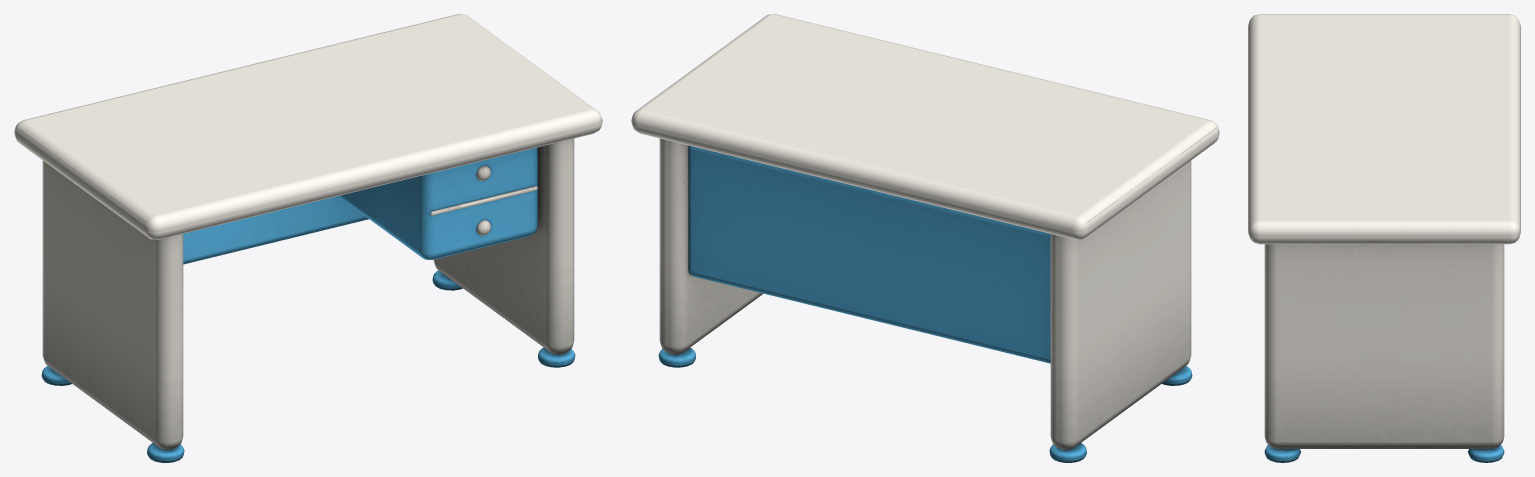
Rendered from desk.glb.
3 views of the same model, side by side, from view 1: azimuth 30°, elevation 25°; view 2: azimuth 150°, elevation 25°; view 3: azimuth 270°, elevation 25° (orthographic). The views are drawn at different scales.
Parts seen in each view (by area): view 1: desk; view 2: desk; view 3: desk.
Part boxes in pixels (x1,y1,x2,y2): desk: (14, 14, 602, 462); desk: (631, 14, 1219, 462); desk: (1248, 14, 1520, 462).
Size of the model in its own units: 1.4 by 0.75 by 0.75.
3 materials, 3 textured.
